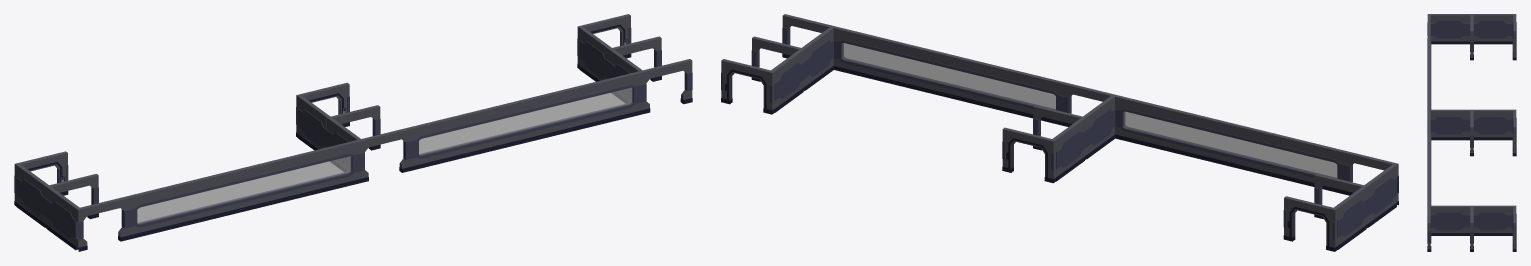
File: main additional windows.FBX
3 views of the same model, side by side, from view 1: azimuth 30°, elevation 25°; view 2: azimuth 150°, elevation 25°; view 3: azimuth 270°, elevation 25° (orthographic). The views are drawn at different scales.
Visible parts, largest first — view 1: Wall048, Wall049, Wall051, Wall050, Wall053, Wall054, Wall037, Wall032, Wall022, Wall036, Wall041, Wall029 (+5 smaller); view 2: Wall049, Wall048, Wall041, Wall036, Wall029, Wall050, Wall054, Wall052, Wall055, Wall051, Wall053, Wall034 (+5 smaller); view 3: Wall052, Wall053, Wall051, Wall055, Wall050, Wall054, Wall048, Wall049, Wall029, Wall041, Wall036, Wall032 (+5 smaller).
Part boxes in pixels (bbox=[...]): Wall048: bbox=[127, 140, 359, 239]; Wall049: bbox=[409, 71, 641, 170]; Wall051: bbox=[47, 187, 79, 250]; Wall050: bbox=[16, 164, 48, 227]; Wall053: bbox=[298, 96, 330, 150]; Wall054: bbox=[579, 27, 611, 81]; Wall037: bbox=[76, 196, 129, 251]; Wall032: bbox=[639, 59, 692, 114]; Wall022: bbox=[358, 127, 410, 183]; Wall036: bbox=[577, 14, 631, 68]; Wall041: bbox=[14, 151, 68, 205]; Wall029: bbox=[296, 82, 349, 137]; Wall049: bbox=[833, 26, 1065, 125]; Wall048: bbox=[1115, 95, 1346, 194]; Wall041: bbox=[1283, 196, 1337, 251]; Wall036: bbox=[721, 59, 774, 114]; Wall029: bbox=[1002, 127, 1055, 183]; Wall050: bbox=[1334, 187, 1366, 249]; Wall054: bbox=[771, 49, 803, 112]; Wall052: bbox=[1083, 96, 1115, 158]; Wall055: bbox=[802, 27, 833, 90]; Wall051: bbox=[1364, 164, 1396, 227]; Wall053: bbox=[1053, 118, 1084, 181]; Wall034: bbox=[751, 36, 805, 90]; Wall052: bbox=[1430, 109, 1470, 140]; Wall053: bbox=[1473, 109, 1513, 140]; Wall051: bbox=[1430, 14, 1470, 44]; Wall055: bbox=[1430, 205, 1470, 235]; Wall050: bbox=[1473, 14, 1513, 44]; Wall054: bbox=[1473, 205, 1513, 235]; Wall048: bbox=[1427, 31, 1431, 133]; Wall049: bbox=[1427, 127, 1431, 229]; Wall029: bbox=[1512, 109, 1516, 156]; Wall041: bbox=[1512, 14, 1516, 60]; Wall036: bbox=[1512, 205, 1516, 251]; Wall032: bbox=[1427, 205, 1431, 251].
Size of the model in its own units: 4804 by 310 by 868.
